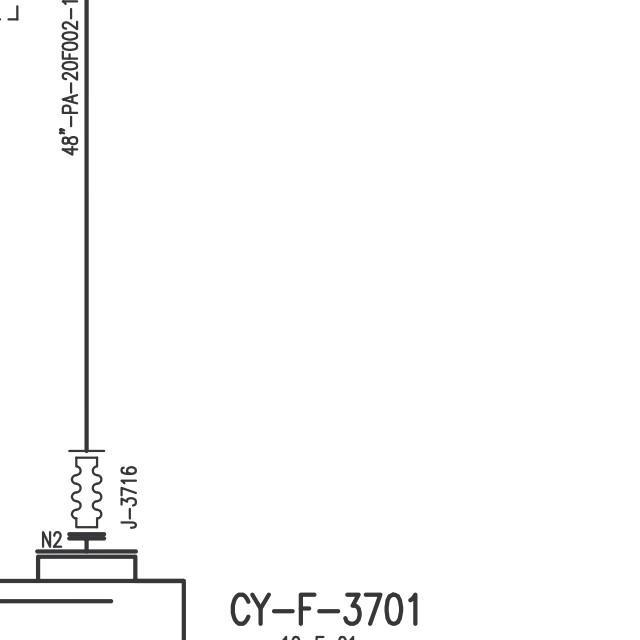EJ: (63, 442, 111, 536)
